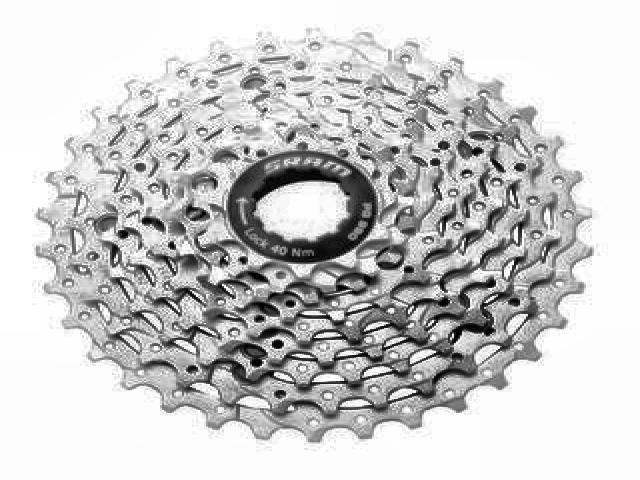cassette: (36, 31, 592, 440)
